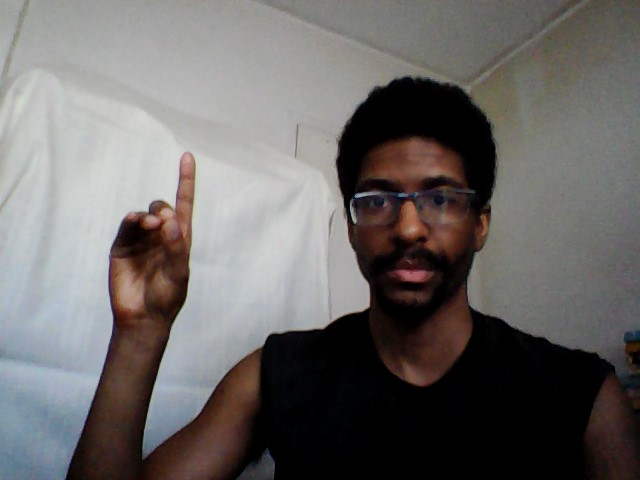d: (103, 148, 201, 326)
